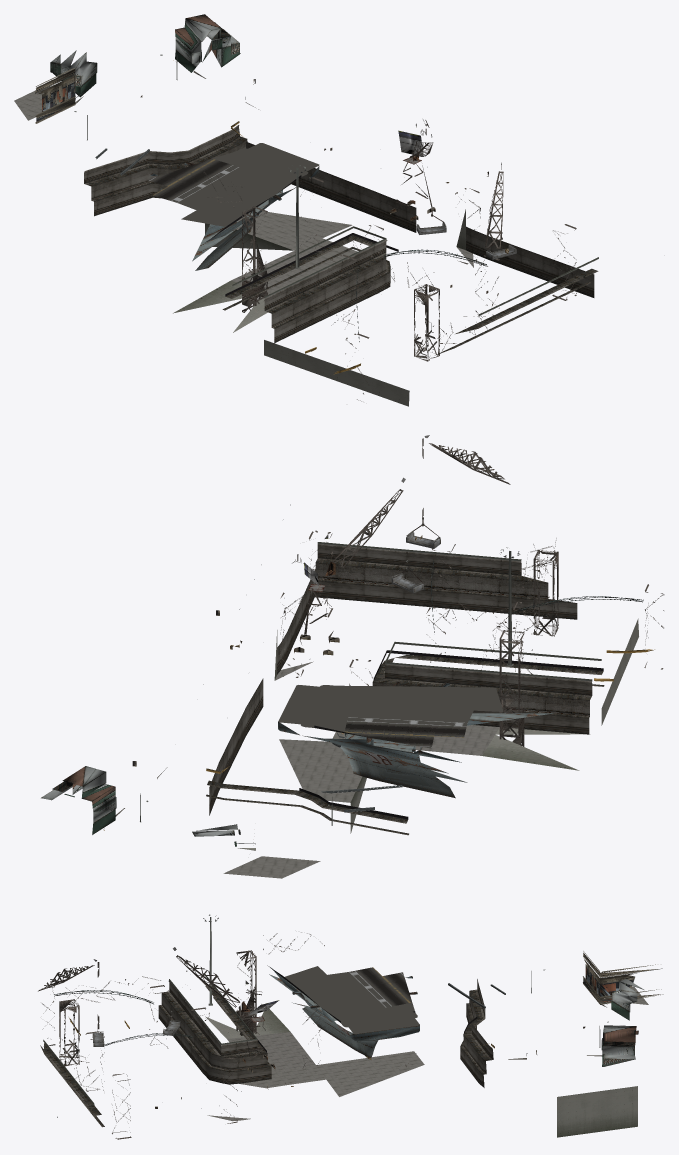
The model's file is world_camden_13_-2.gltf.
3 views of the same model, one above another, from view 1: azimuth 30°, elevation 25°; view 2: azimuth 150°, elevation 25°; view 3: azimuth 270°, elevation 25° (orthographic). The views are drawn at different scales.
Bounding box in the file's own units: 164 × 80.19 × 282.
Materials: 44 (44 with a texture image).
